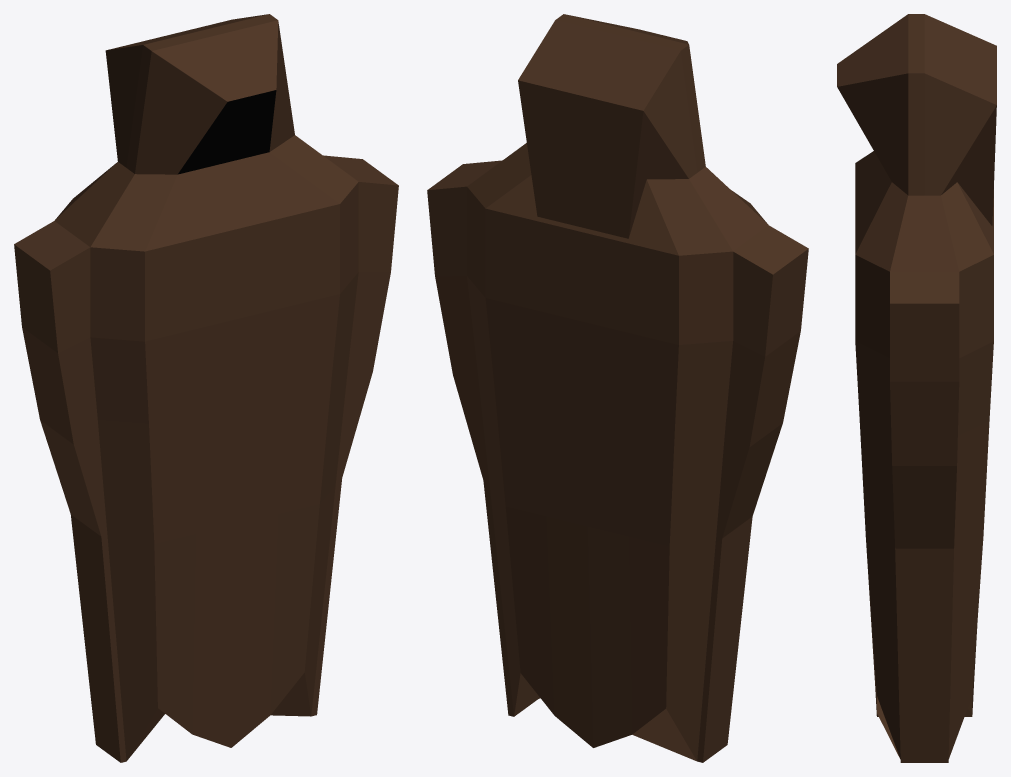
The model's file is phantom.fbx.
The picture shows the model from 3 angles, left to right: view 1: azimuth 30°, elevation 25°; view 2: azimuth 150°, elevation 25°; view 3: azimuth 270°, elevation 25°; orthographic projection. The views are drawn at different scales.
Visible parts, largest first — view 1: Plane; view 2: Plane; view 3: Plane.
Boxes of the visible parts, x1,y1,x2,y2 form: Plane: [14, 14, 398, 762]; Plane: [427, 14, 808, 762]; Plane: [837, 14, 996, 762].
Bounding box in the file's own units: 4.04 × 7.75 × 1.67.
